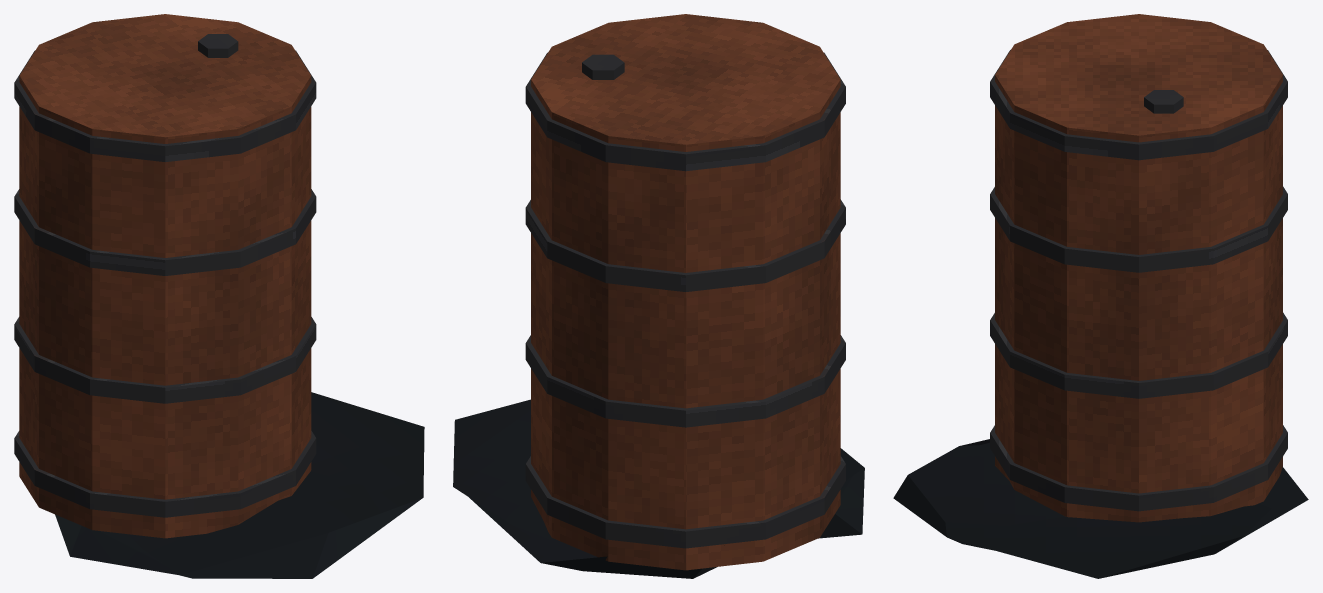
Rendered from barrel_rusty.glb.
3 renders of one model, left to right at view 1: azimuth 30°, elevation 25°; view 2: azimuth 150°, elevation 25°; view 3: azimuth 270°, elevation 25°, orthographic. The views are drawn at different scales.
Parts seen in each view (by area): view 1: barrel_rusty; view 2: barrel_rusty; view 3: barrel_rusty.
Part boxes in pixels (x1,y1,x2,y2): barrel_rusty: (14, 14, 424, 578); barrel_rusty: (453, 14, 864, 578); barrel_rusty: (893, 14, 1308, 578).
Size of what is drawn, in the model's own units: 0.8478 by 0.9483 by 0.8366.
3 materials, 3 textured.
